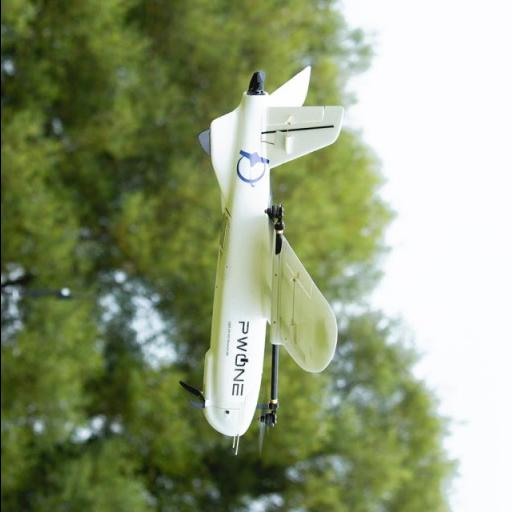uav: (158, 51, 352, 463)
